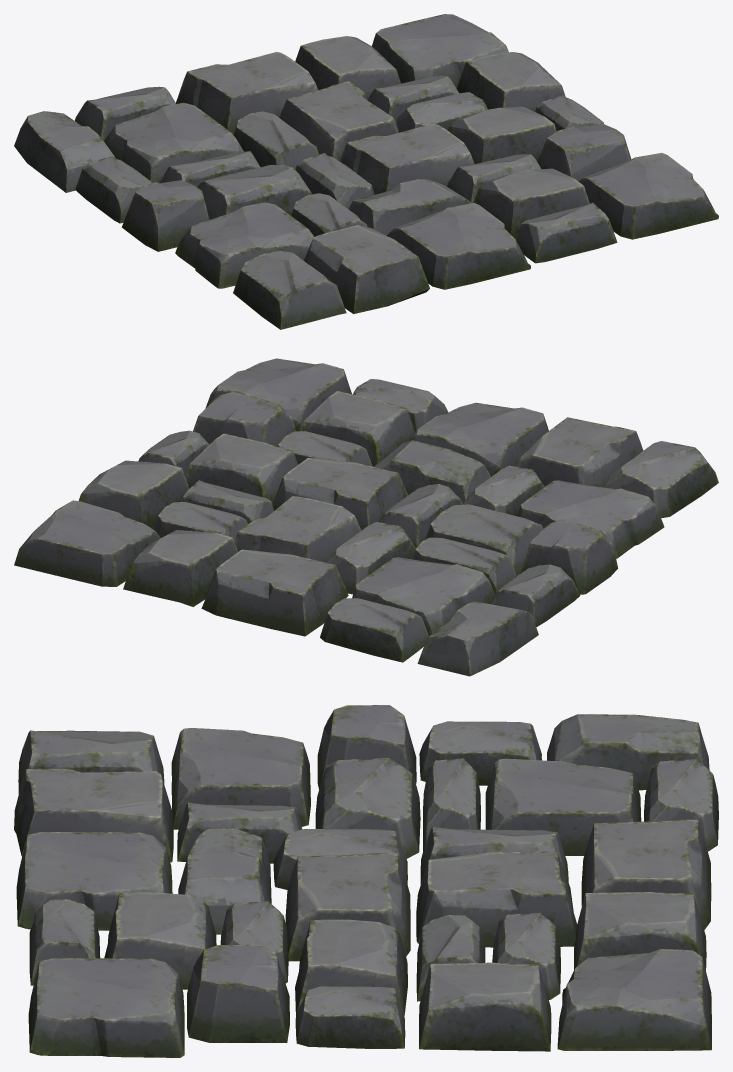
File: RockPath_Square_Wide.gltf
The picture shows the model from 3 angles, top to bottom: view 1: azimuth 30°, elevation 25°; view 2: azimuth 150°, elevation 25°; view 3: azimuth 270°, elevation 25°; orthographic projection. The views are drawn at different scales.
Visible parts, largest first — view 1: RockPath_Square_Wide; view 2: RockPath_Square_Wide; view 3: RockPath_Square_Wide.
Part boxes in pixels (x1,y1,x2,y2): RockPath_Square_Wide: (14, 14, 718, 329); RockPath_Square_Wide: (14, 358, 718, 676); RockPath_Square_Wide: (14, 705, 718, 1057).
Size of the model in its own units: 2.05 by 0.1763 by 1.99.
Materials: 1 (1 with a texture image).
